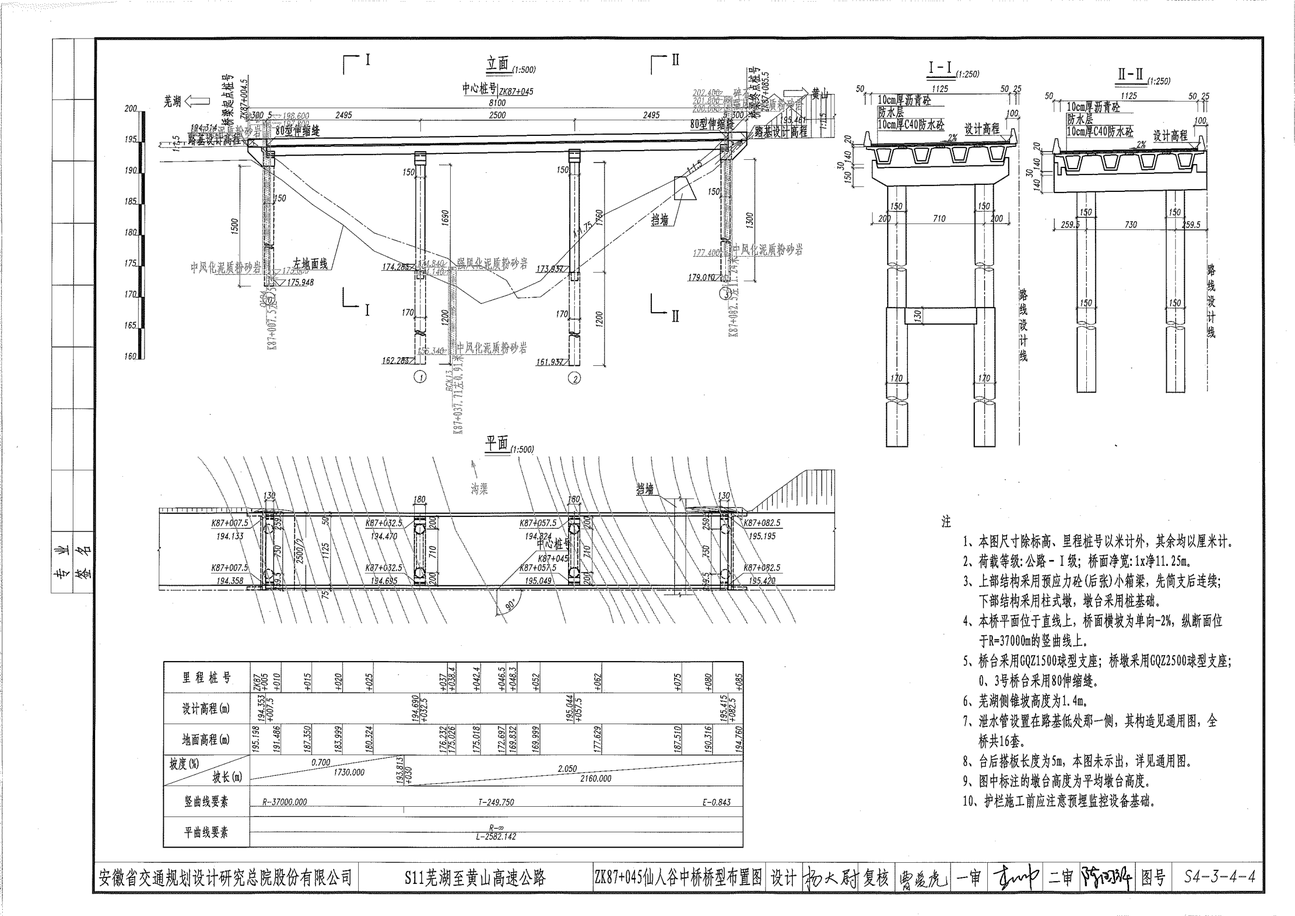A: (113, 48, 839, 434)
